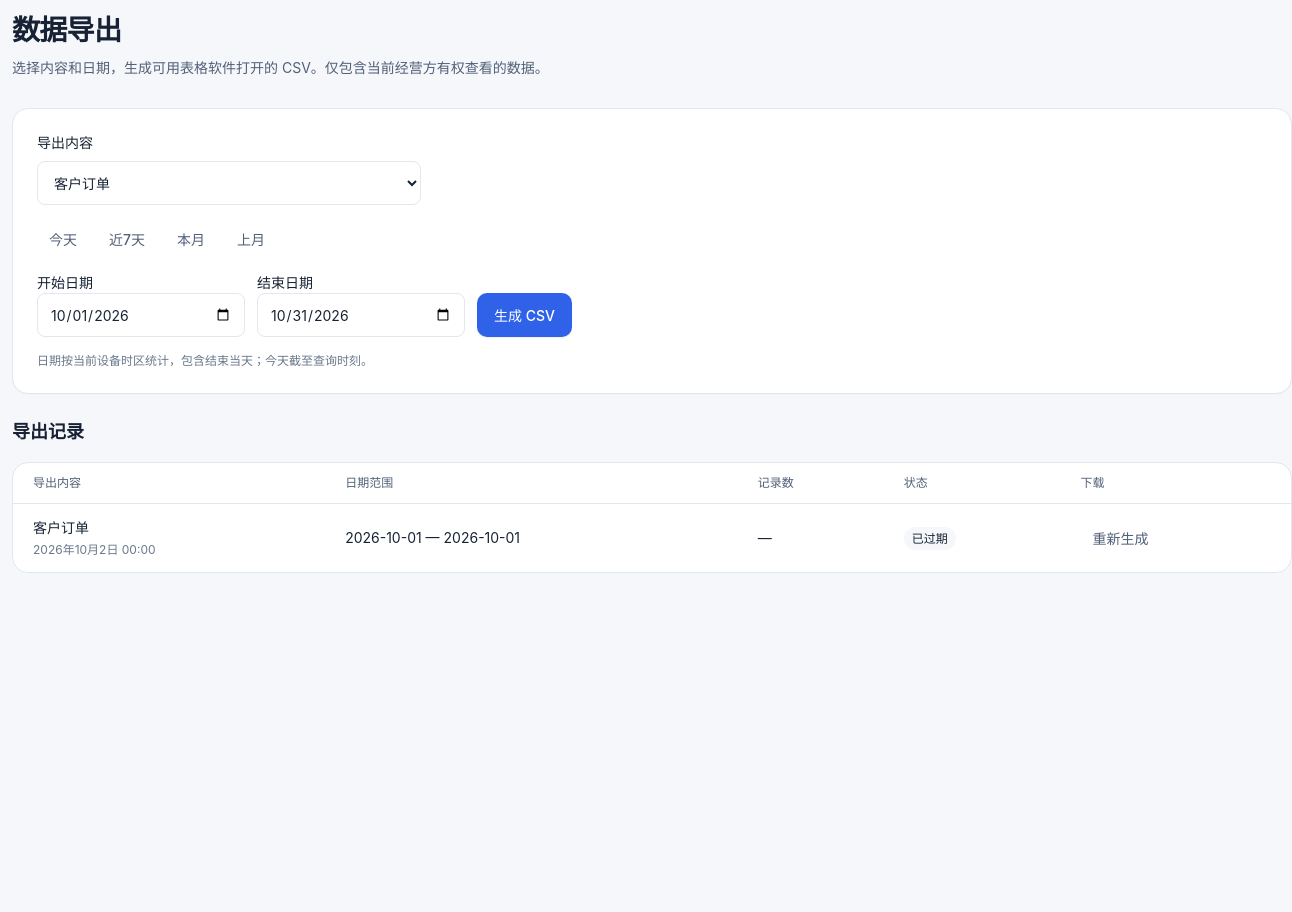
it: exports through one content/date form and retries uncertain submission without changing the request
Step 1. Click the button "生成 CSV" → x=524, y=315, box [477,293,572,337]
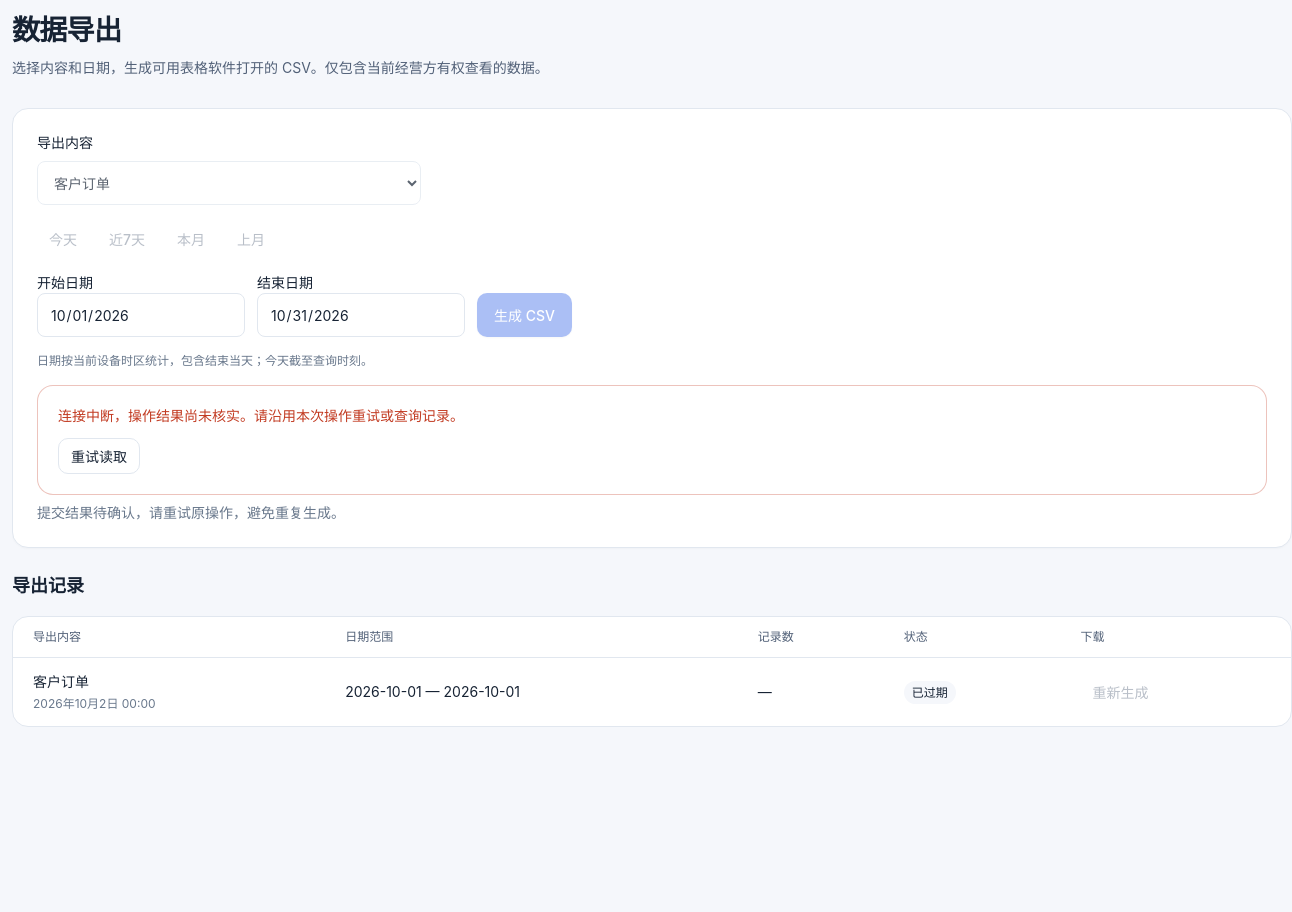
Result: the text "提交结果待确认，请重试原操作，避免重复生成。" is shown at [37,504,345,521]
Result: the dropdown labelled "导出内容" is disabled at [37,161,421,205]
Step 2. Click the button "重试读取" → x=99, y=456, box [58,438,140,474]
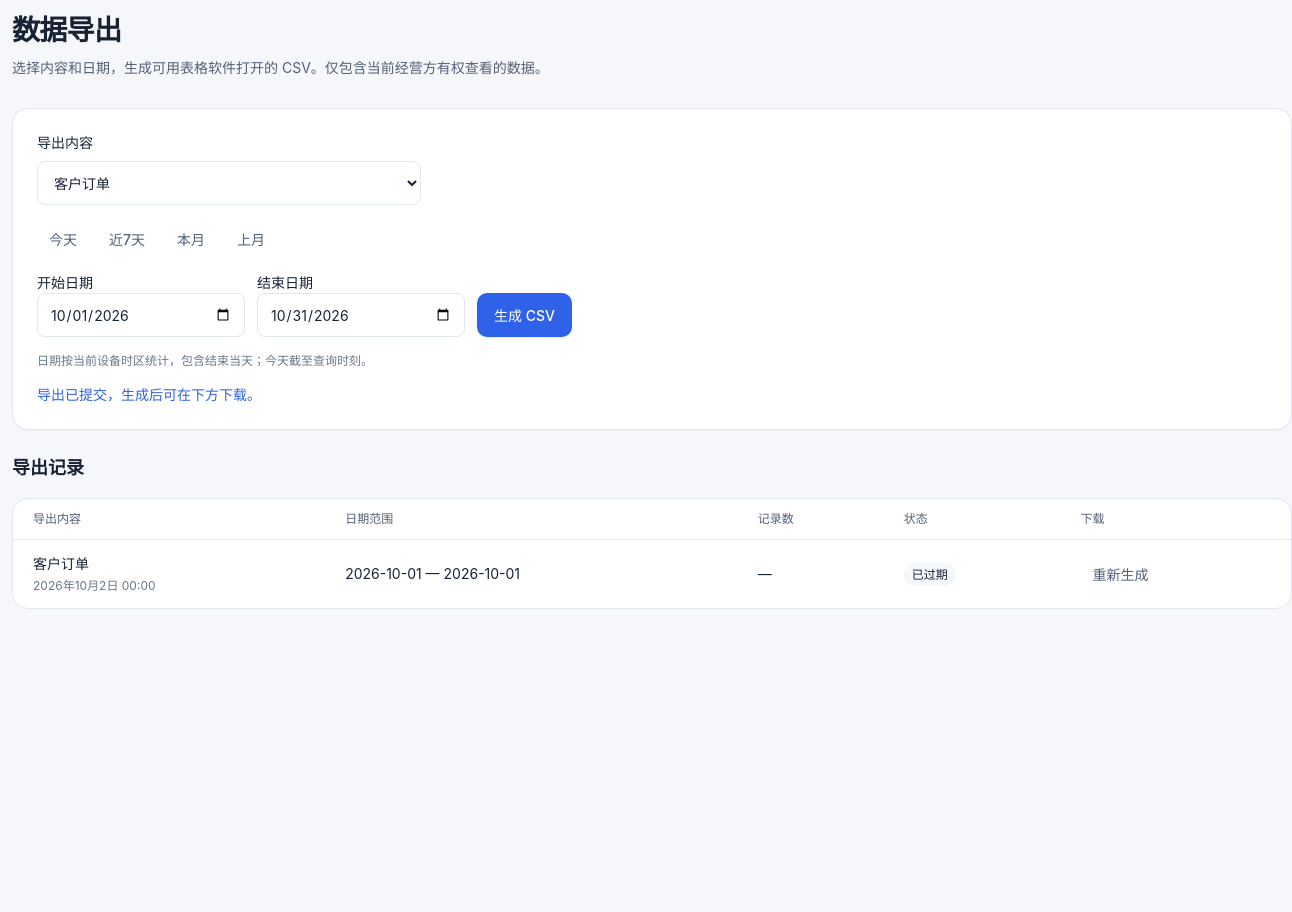
Result: the text "导出已提交，生成后可在下方下载。" is shown at [37,386,261,403]
